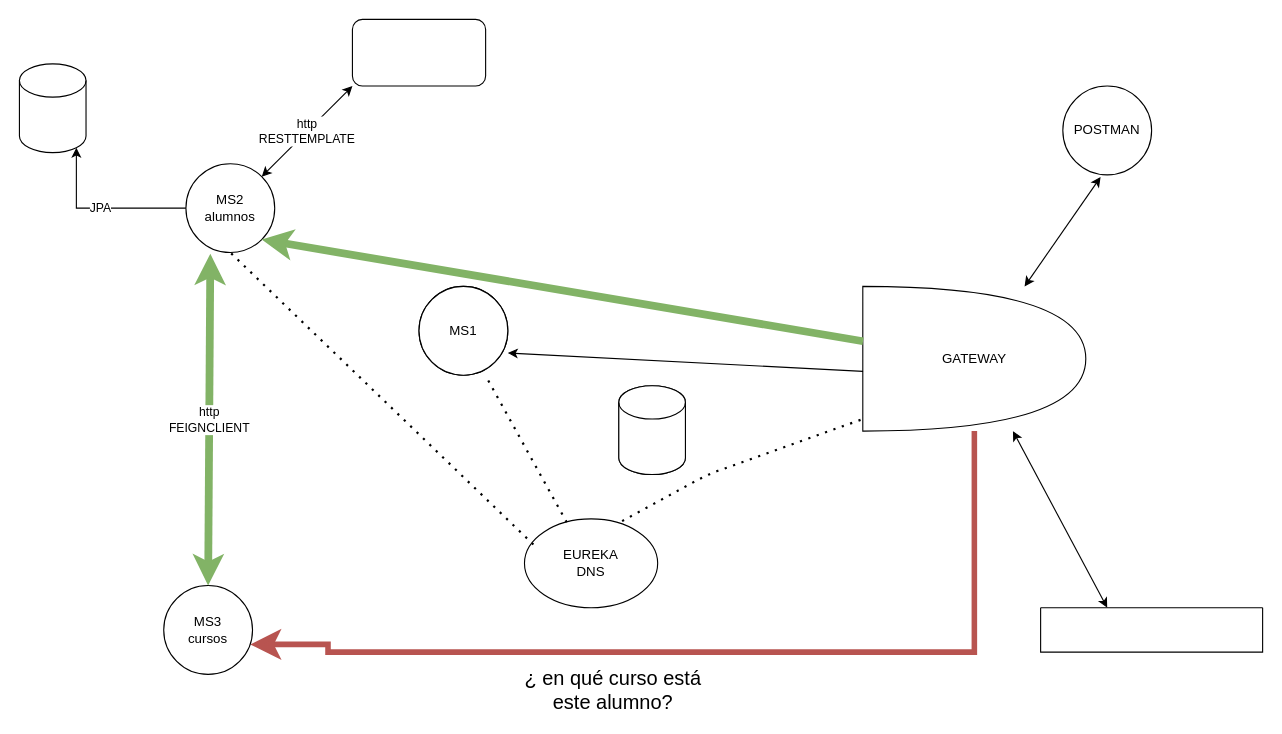
Some shapes in this 1282 by 734 pixel diagram are drawn without their labels. The centre of each missing label's shape, as x and y in pixels:
angular: the point at 1151,629
BD MS2: the point at 52,108
PAYPAL CHUCK NORRIS: the point at 418,52
